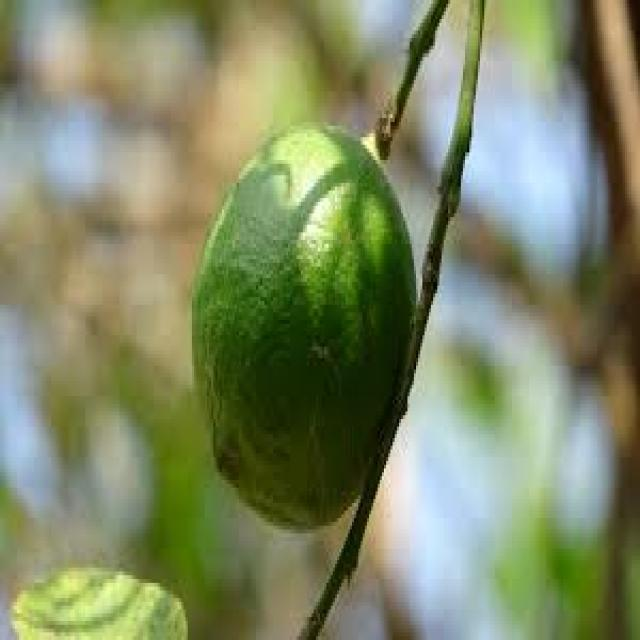Unripe: (190, 120, 418, 531)
